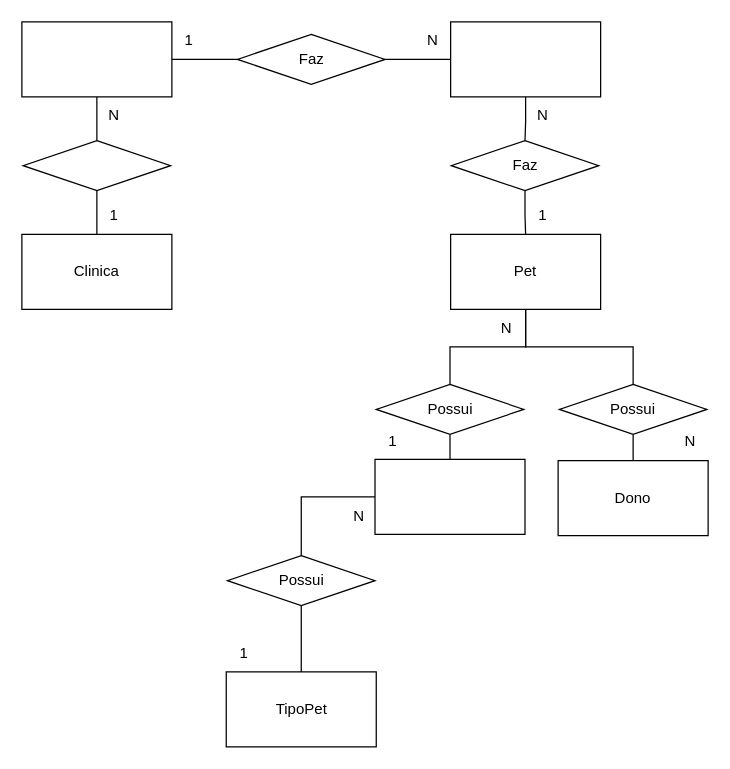
This 730x769 diagram has some shape labels left out. The centre of each missing label's shape, as x and y in pixels:
"Atendimento" goes at pixel 525 59.
"Contém" goes at pixel 96 165.
"Raca" goes at pixel 449 496.
"Veterinario" goes at pixel 96 59.
